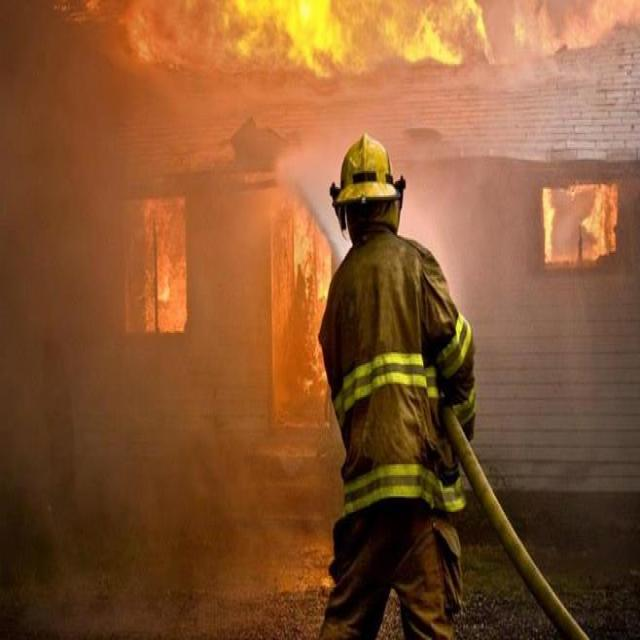Fire: (132, 0, 486, 74), (509, 0, 640, 59), (143, 198, 190, 334), (546, 186, 621, 264)
